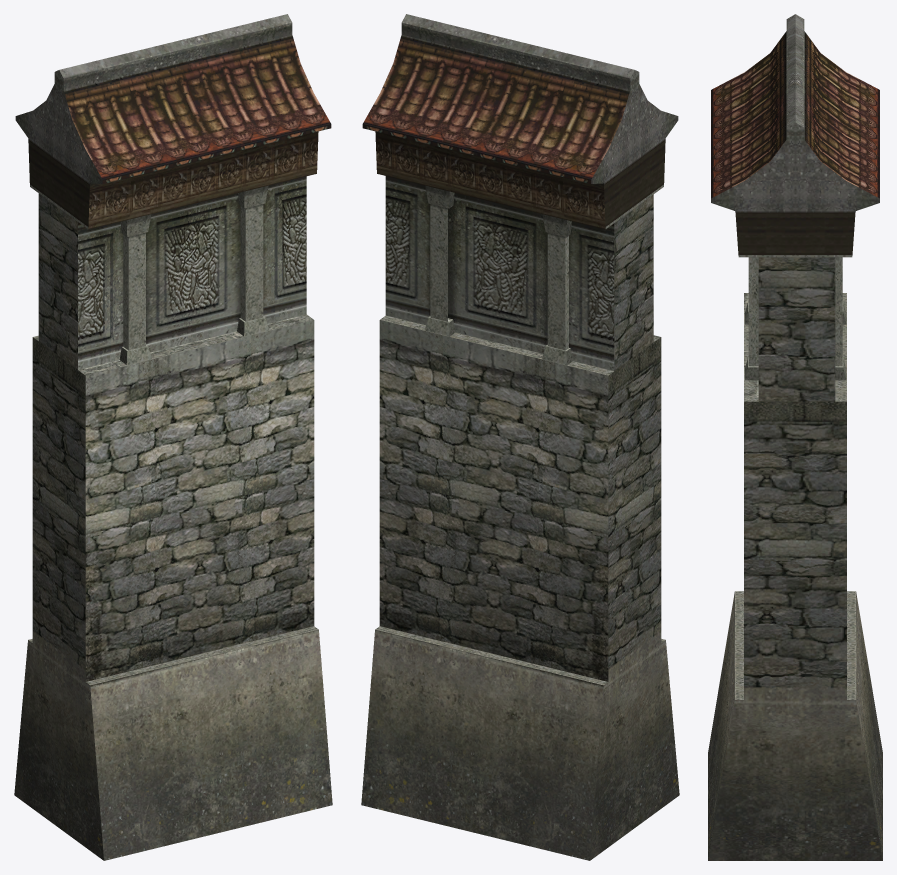
Rendered from a1-middledam-04.fbx.
3 renders of one model, left to right at view 1: azimuth 30°, elevation 25°; view 2: azimuth 150°, elevation 25°; view 3: azimuth 270°, elevation 25°, orthographic. The views are drawn at different scales.
Visible parts, largest first — view 1: b1-middledam-04; view 2: b1-middledam-04; view 3: b1-middledam-04.
Boxes of the visible parts, x1,y1,x2,y2 form: b1-middledam-04: (14,14,332,860); b1-middledam-04: (361,14,679,860); b1-middledam-04: (708,14,882,860).
Size of the model in its own units: 2.5 by 7.92 by 1.7.
